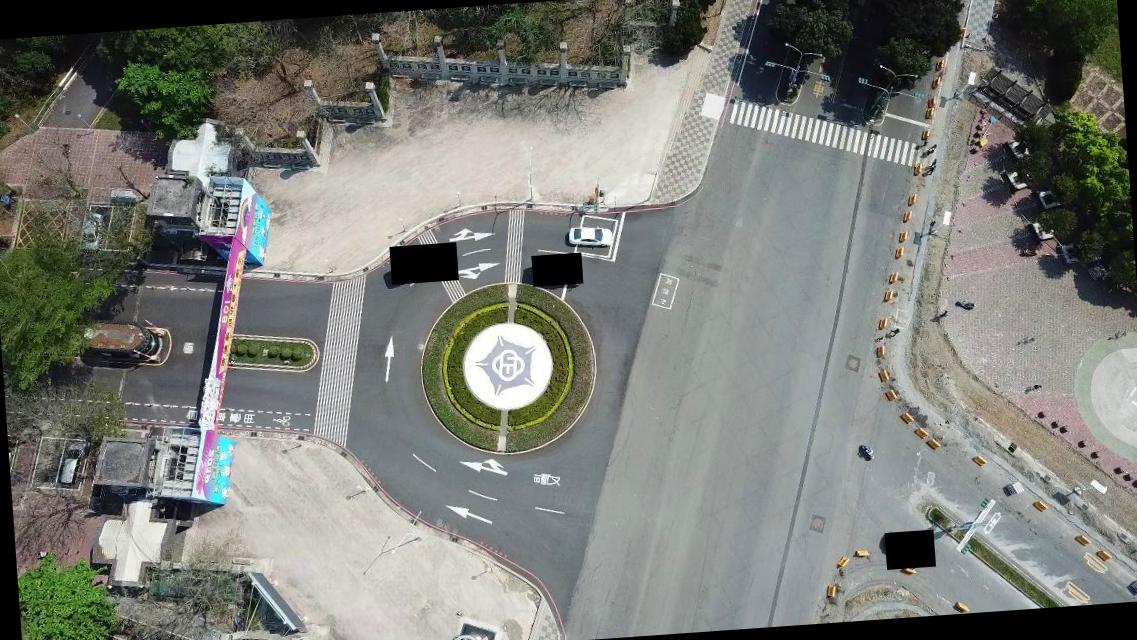vehicle: (58, 440, 88, 487), (78, 210, 105, 251), (568, 224, 612, 249)
